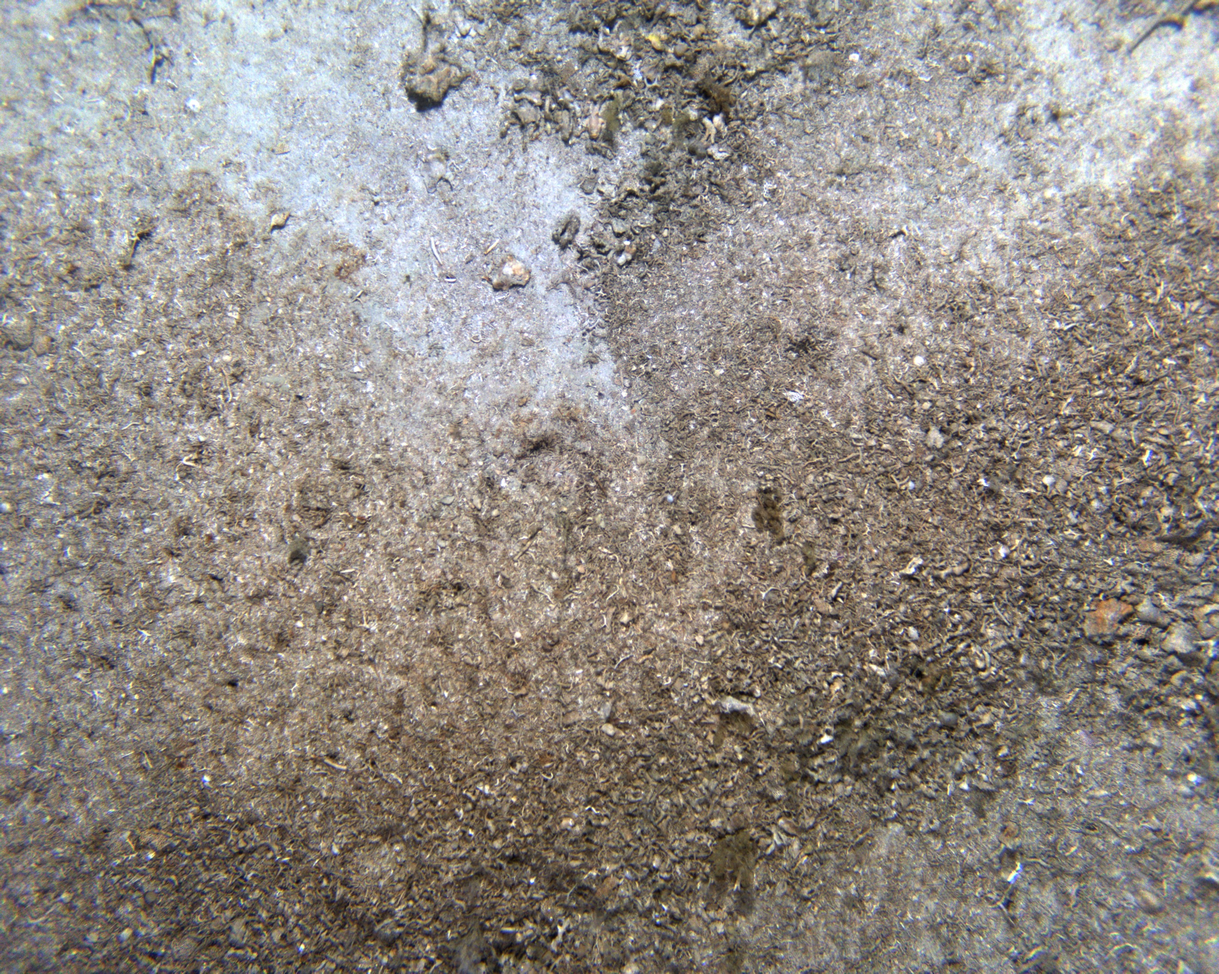Brachionichthyidae: (583, 92, 611, 140)
